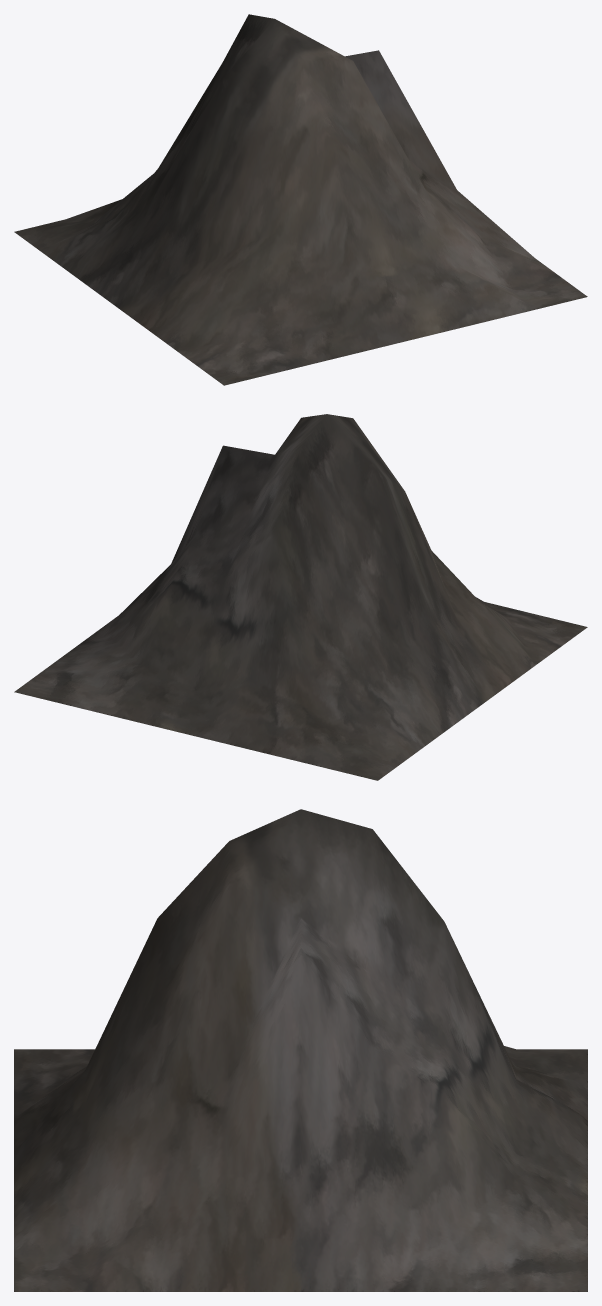
Rendered from rock2.fbx.
3 views of the same model, one above another, from view 1: azimuth 30°, elevation 25°; view 2: azimuth 150°, elevation 25°; view 3: azimuth 270°, elevation 25° (orthographic). The views are drawn at different scales.
Visible parts, largest first — view 1: Landscape; view 2: Landscape; view 3: Landscape.
Boxes of the visible parts, left/top/right/bottom form: Landscape: left=14, top=14, right=587, bottom=385; Landscape: left=14, top=414, right=587, bottom=780; Landscape: left=14, top=809, right=587, bottom=1291.
Bounding box in the file's own units: 9 × 5.95 × 9.
1 material, 1 textured.
